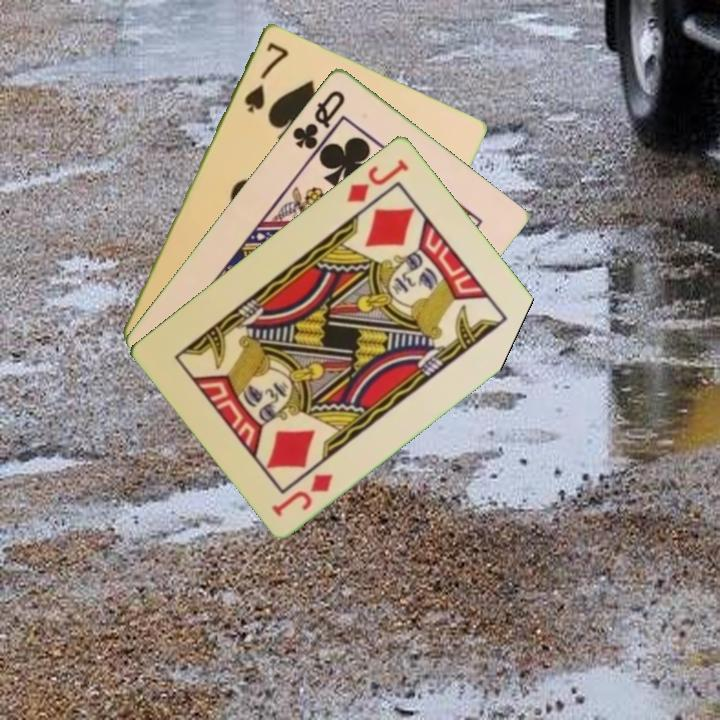7s: (240, 37, 291, 115)
Jd: (267, 469, 336, 520), (343, 155, 412, 205)
Qc: (288, 85, 348, 152)
